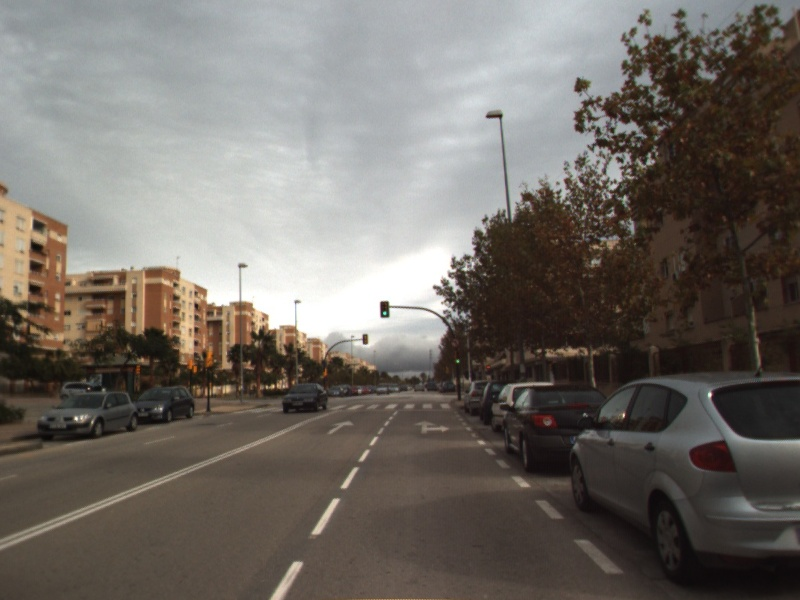STRAIGHT: (325, 418, 356, 436)
STRAIGHT_RIGHT: (412, 418, 452, 435)
